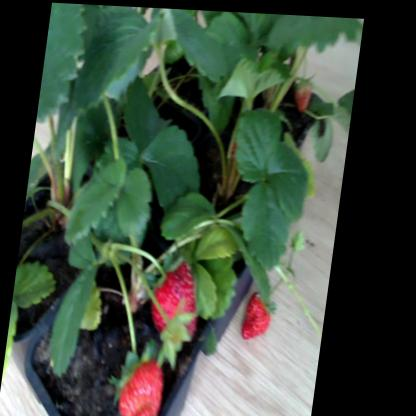ripe: (152, 255, 213, 342), (128, 355, 176, 416), (247, 284, 282, 339)
unripe: (296, 79, 316, 109)
